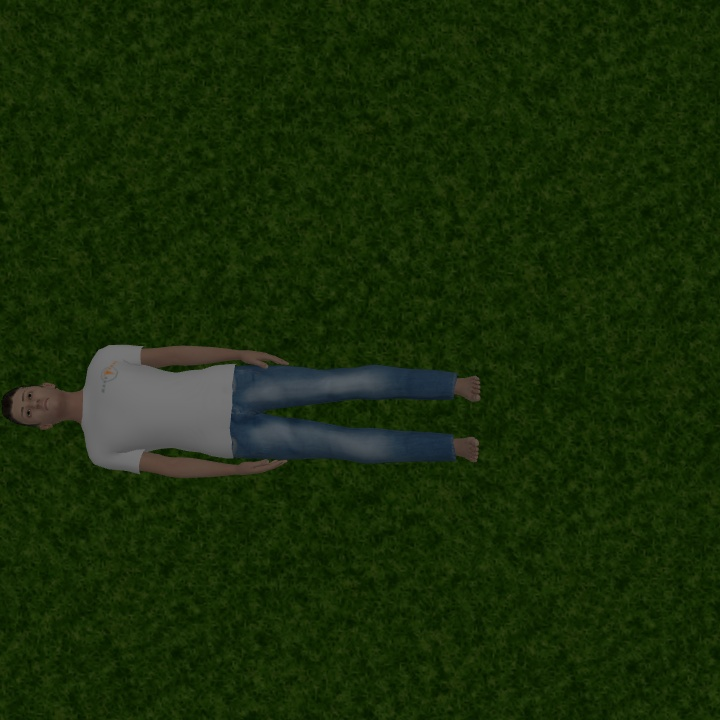victim: (6, 341, 484, 482)
